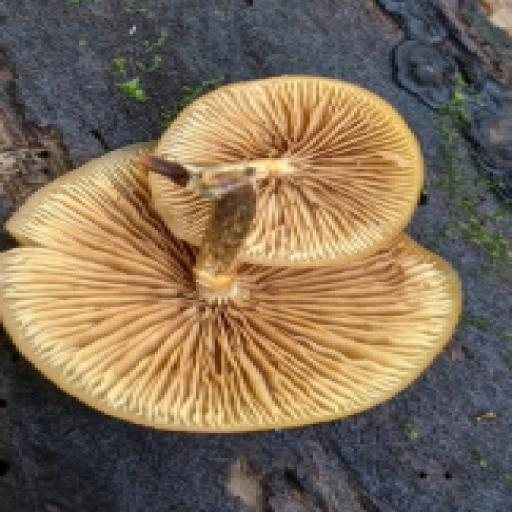mushroom: (3, 69, 482, 444)
